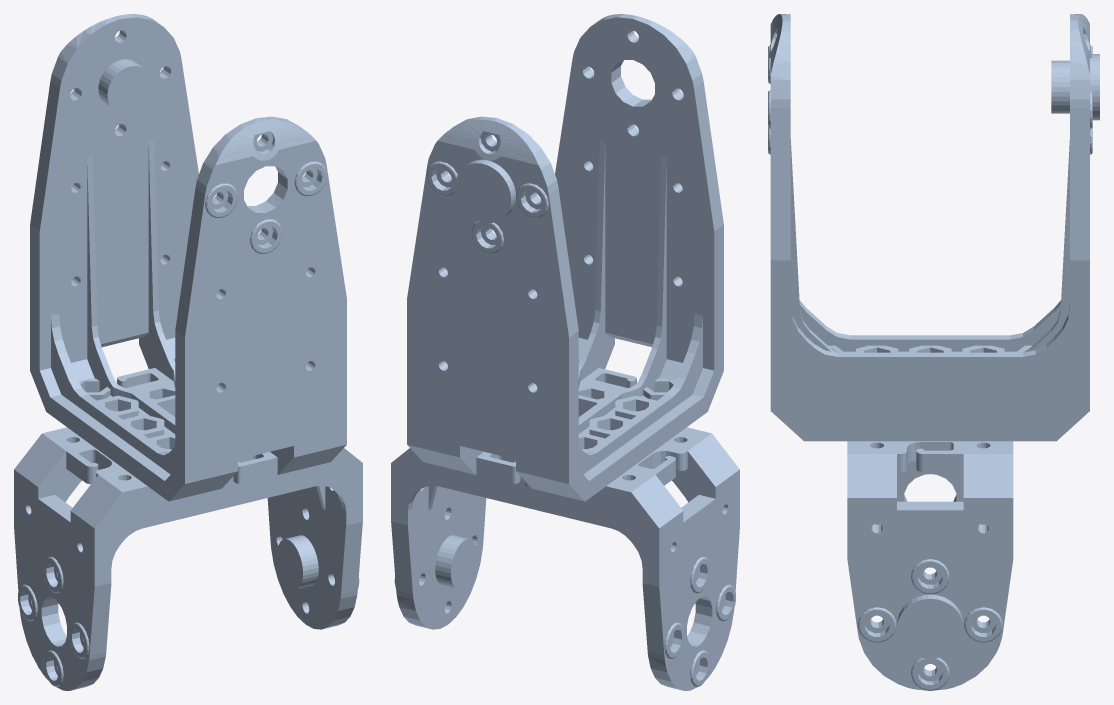
Rendered from elbow.dae.
3 renders of one model, left to right at view 1: azimuth 30°, elevation 25°; view 2: azimuth 150°, elevation 25°; view 3: azimuth 270°, elevation 25°, orthographic. The views are drawn at different scales.
Visible parts, largest first — view 1: elbow2; view 2: elbow2; view 3: elbow2.
Boxes of the visible parts, bbox=[...] form: elbow2: bbox=[14, 14, 362, 690]; elbow2: bbox=[391, 14, 739, 690]; elbow2: bbox=[768, 14, 1099, 690].
Bounding box in the file's own units: 0.0499 × 0.0499 × 0.1.
